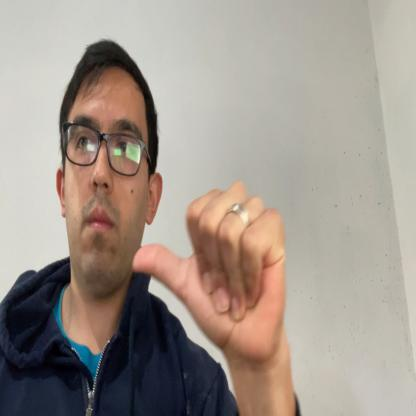A: (131, 177, 287, 362)
